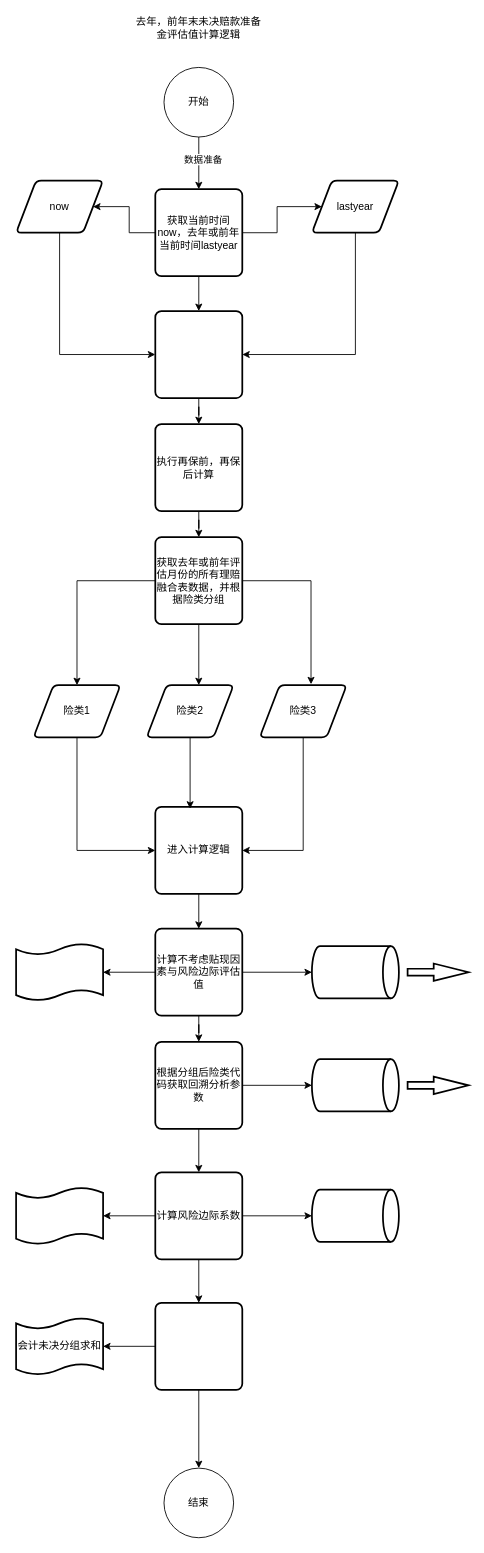
This 484x1553 diagram has some shape labels left out. The centre of each missing label's shape, as x and y in pixels:
backParameters: pixel 355 1085
不考虑贴现因素与风险边际评估值: pixel 355 972
再保前再保后风险边际分组求平均数/a*(1+b.风险边际率)*b.久期: pixel 59 1215
法定未决赔款(分再保前和再保后): pixel 59 972
计算未决赔款准备金评估值: pixel 198 1346
设置评估日为now,评估开始时间为lastyear: pixel 198 354
风险边际系数: pixel 355 1215
